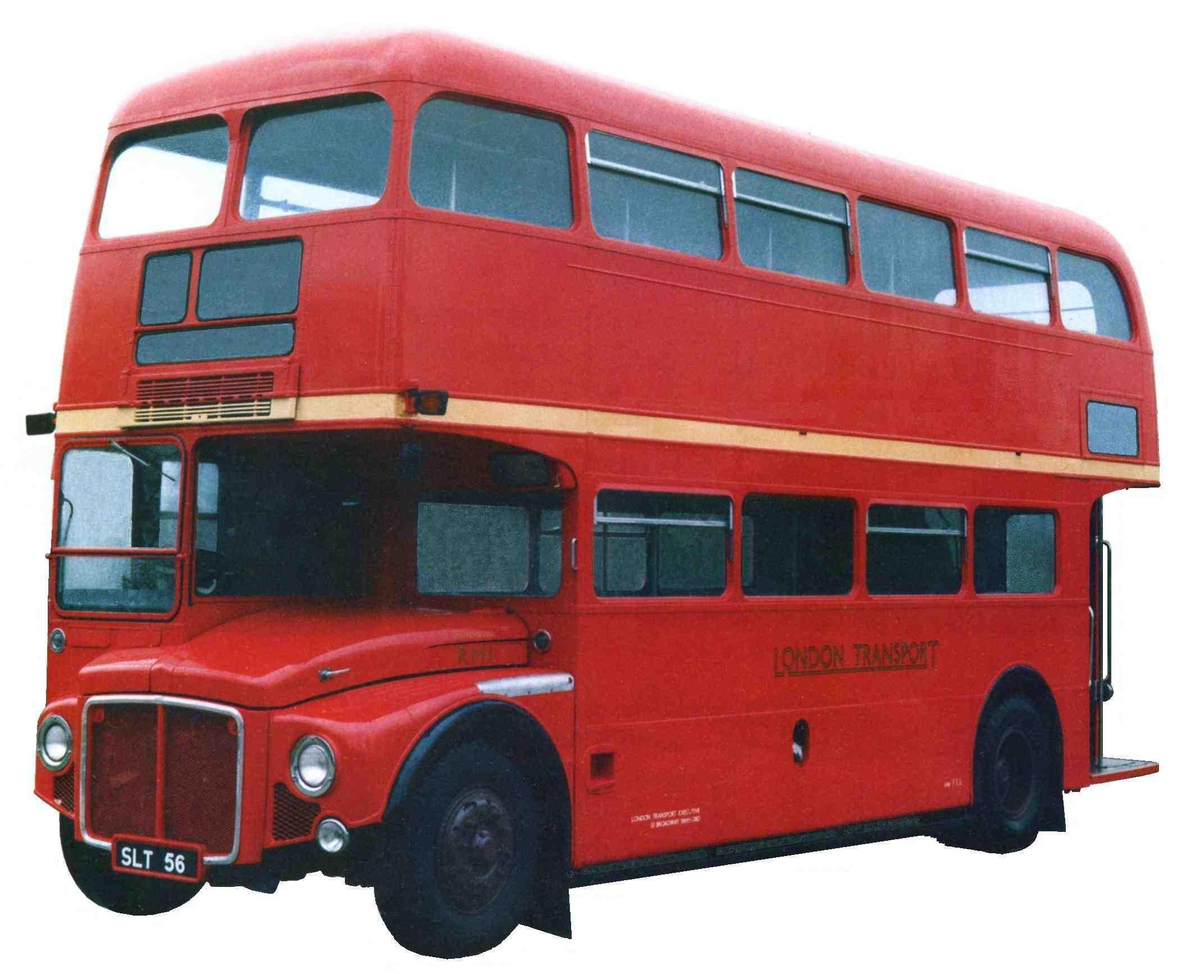Bus: (29, 26, 1165, 963)
